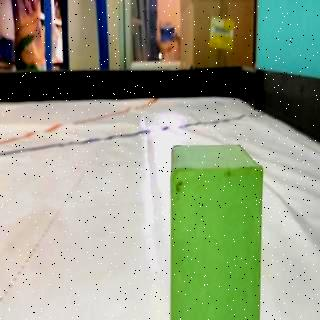greenbox: (167, 142, 264, 320)
